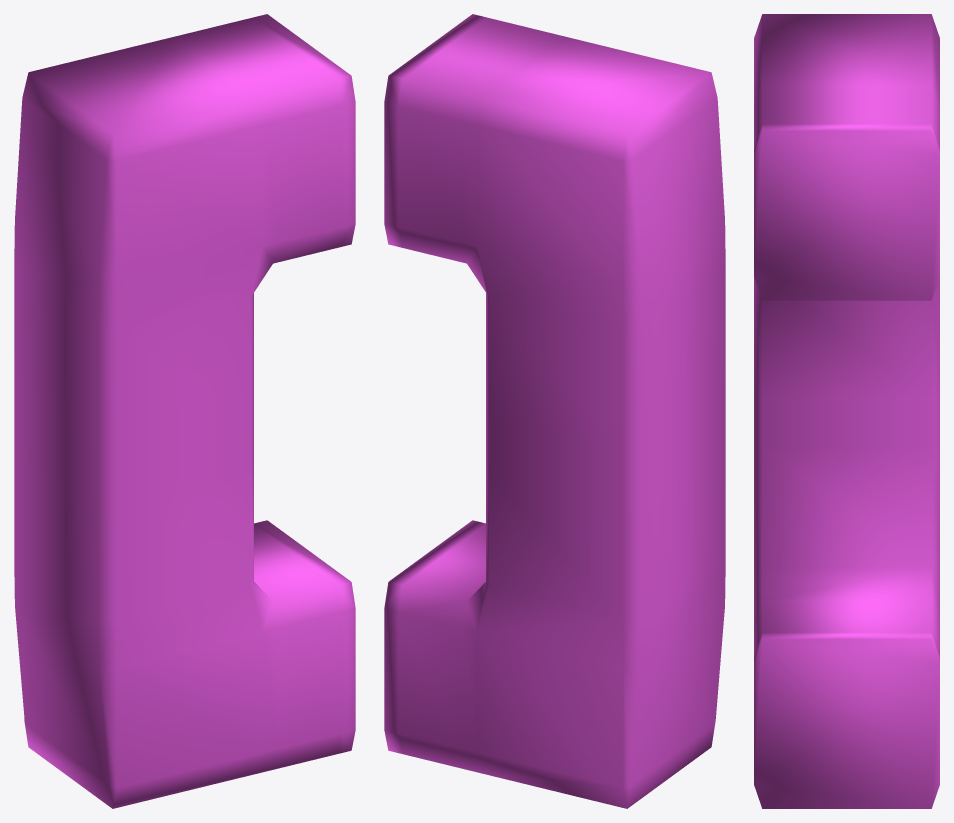
File: contact.glb
3 views of the same model, side by side, from view 1: azimuth 30°, elevation 25°; view 2: azimuth 150°, elevation 25°; view 3: azimuth 270°, elevation 25° (orthographic).
Visible parts, largest first — view 1: Cube; view 2: Cube; view 3: Cube.
Boxes of the visible parts, x1,y1,x2,y2 form: Cube: [14, 14, 355, 808]; Cube: [384, 14, 725, 808]; Cube: [754, 14, 939, 808].
Bounding box in the file's own units: 3.16 × 8.04 × 2.
